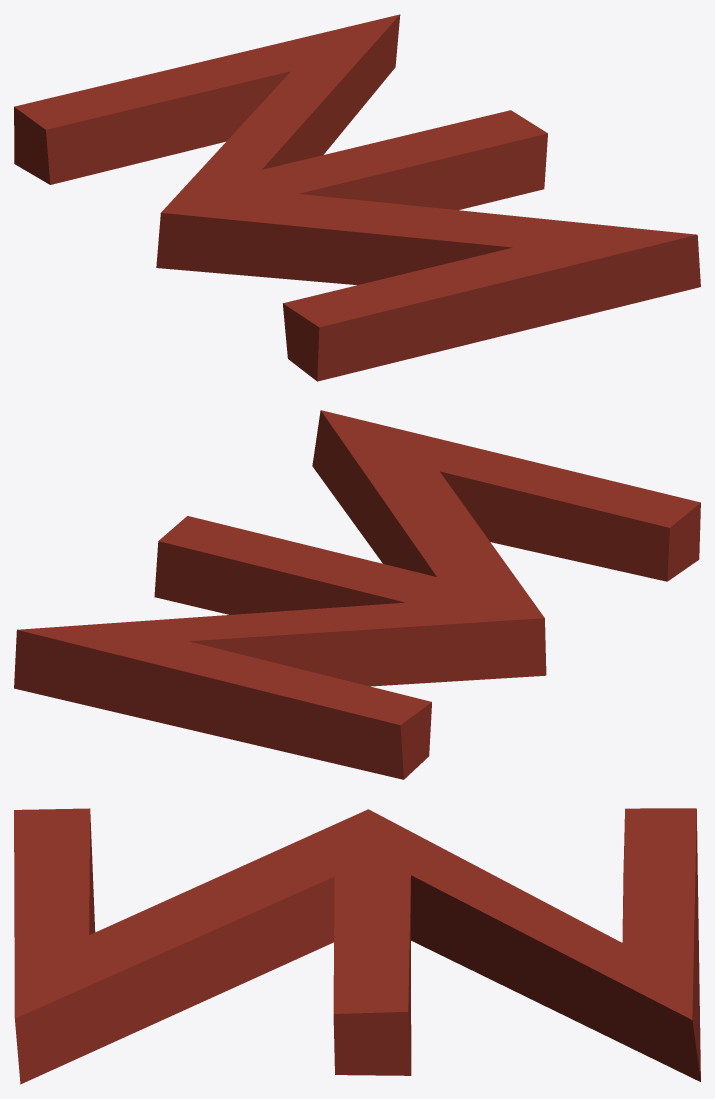
The model's file is worlds_SM_Prop_Alien_Letter_18.gltf.
3 renders of one model, top to bottom at view 1: azimuth 30°, elevation 25°; view 2: azimuth 150°, elevation 25°; view 3: azimuth 270°, elevation 25°, orthographic. The views are drawn at different scales.
Visible parts, largest first — view 1: SM_Prop_Alien_Letter_18; view 2: SM_Prop_Alien_Letter_18; view 3: SM_Prop_Alien_Letter_18.
Boxes of the visible parts, x1,y1,x2,y2 form: SM_Prop_Alien_Letter_18: (14,14,700,381); SM_Prop_Alien_Letter_18: (14,410,700,779); SM_Prop_Alien_Letter_18: (14,808,700,1084).
Size of the model in its own units: 0.2564 by 0.035 by 0.3474.
Materials: 1 (1 with a texture image).
